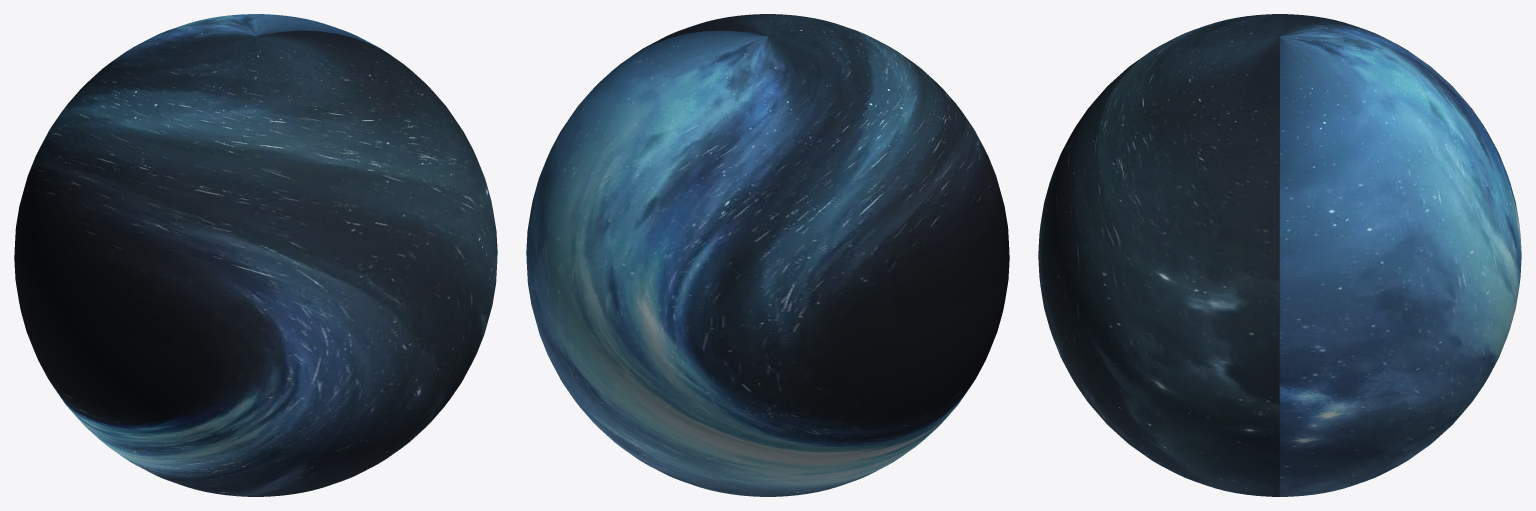
Rendered from blackhole_effect.glb.
The picture shows the model from 3 angles, left to right: view 1: azimuth 30°, elevation 25°; view 2: azimuth 150°, elevation 25°; view 3: azimuth 270°, elevation 25°; orthographic projection.
Visible parts, largest first — view 1: Object_2; view 2: Object_2; view 3: Object_2.
Boxes of the visible parts, x1,y1,x2,y2 form: Object_2: (14, 14, 497, 496); Object_2: (526, 14, 1009, 496); Object_2: (1038, 14, 1521, 496).
Bounding box in the file's own units: 100 × 100 × 100.
Materials: 1 (1 with a texture image).
